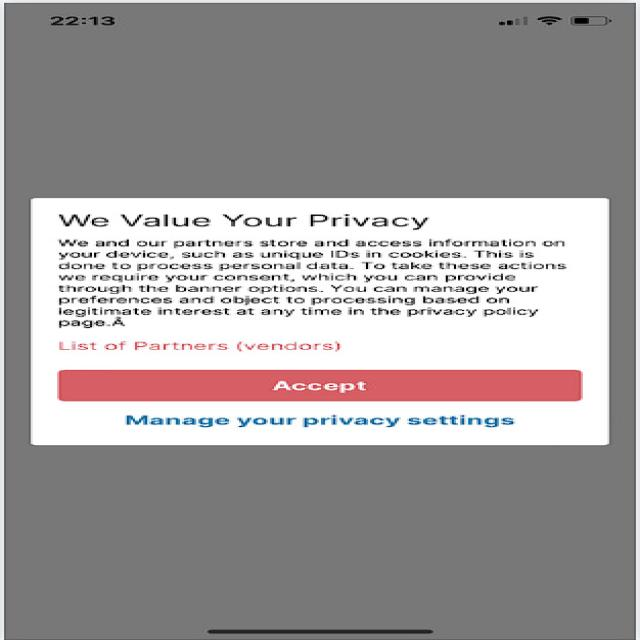button: (47, 356, 596, 407)
text: (44, 203, 610, 352)
